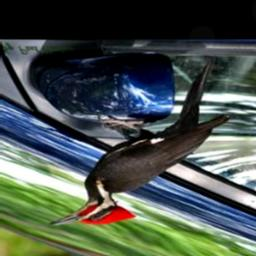Woodpecker: (45, 56, 233, 227)
